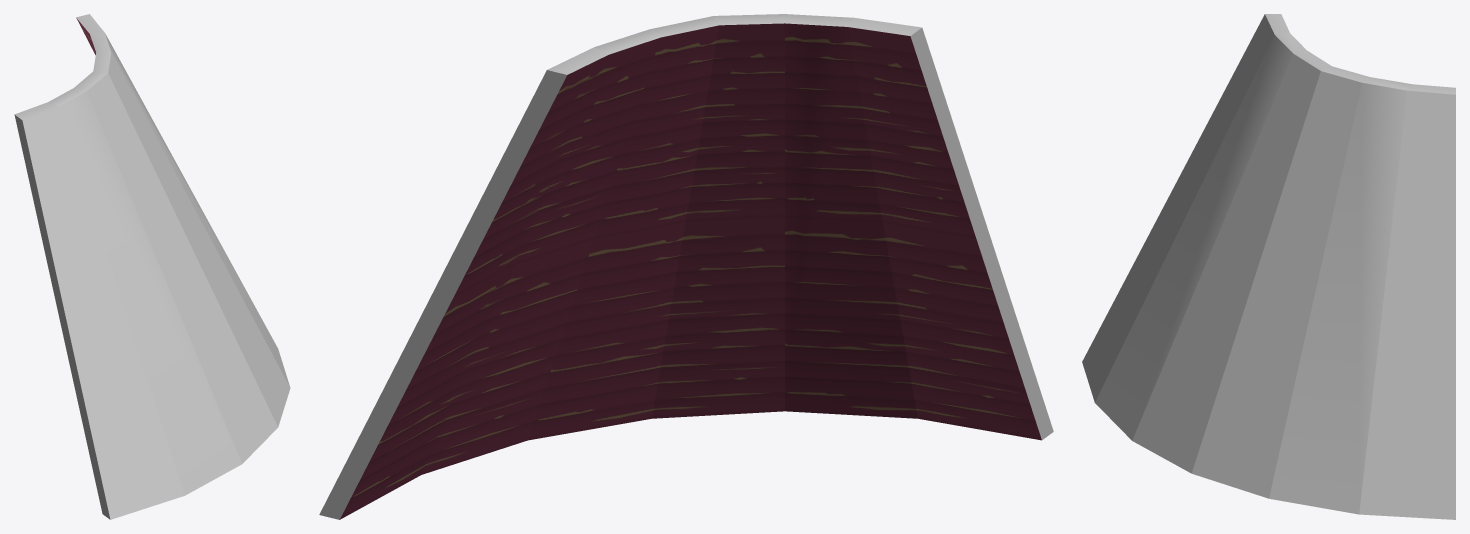
File: SM_Bld_Wall_Curved_L_Transition_01_Collision.fbx
3 views of the same model, side by side, from view 1: azimuth 30°, elevation 25°; view 2: azimuth 150°, elevation 25°; view 3: azimuth 270°, elevation 25° (orthographic). The views are drawn at different scales.
Visible parts, largest first — view 1: SM_Bld_Wall_Curved_L_Transition_01_Collision; view 2: SM_Bld_Wall_Curved_L_Transition_01_Collision; view 3: SM_Bld_Wall_Curved_L_Transition_01_Collision.
Part boxes in pixels (bbox=[...]): SM_Bld_Wall_Curved_L_Transition_01_Collision: bbox=[14, 14, 290, 519]; SM_Bld_Wall_Curved_L_Transition_01_Collision: bbox=[319, 14, 1053, 519]; SM_Bld_Wall_Curved_L_Transition_01_Collision: bbox=[1082, 14, 1455, 519].
Bounding box in the file's own units: 511 × 525 × 511.
